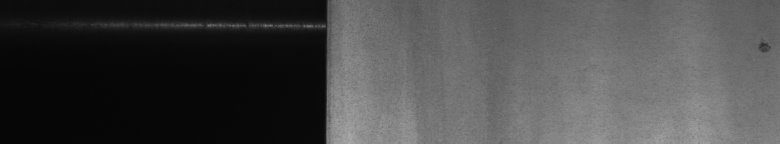fi: (756, 34, 773, 60)
